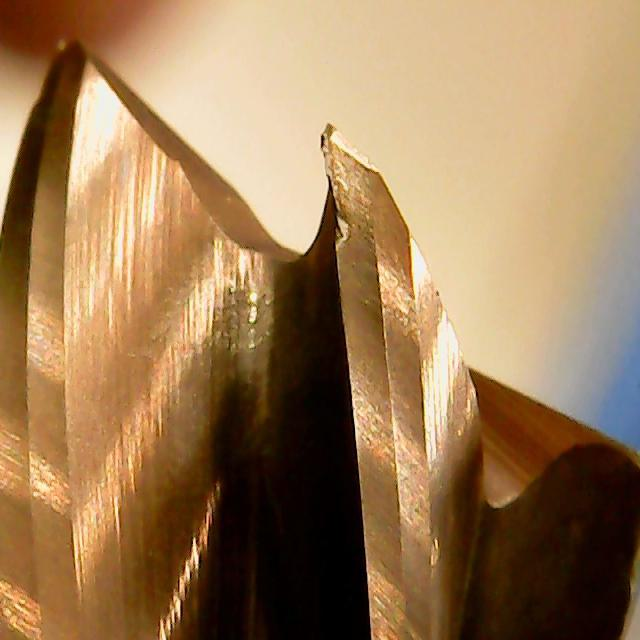Tool-wear-class-1: (307, 122, 422, 429)
